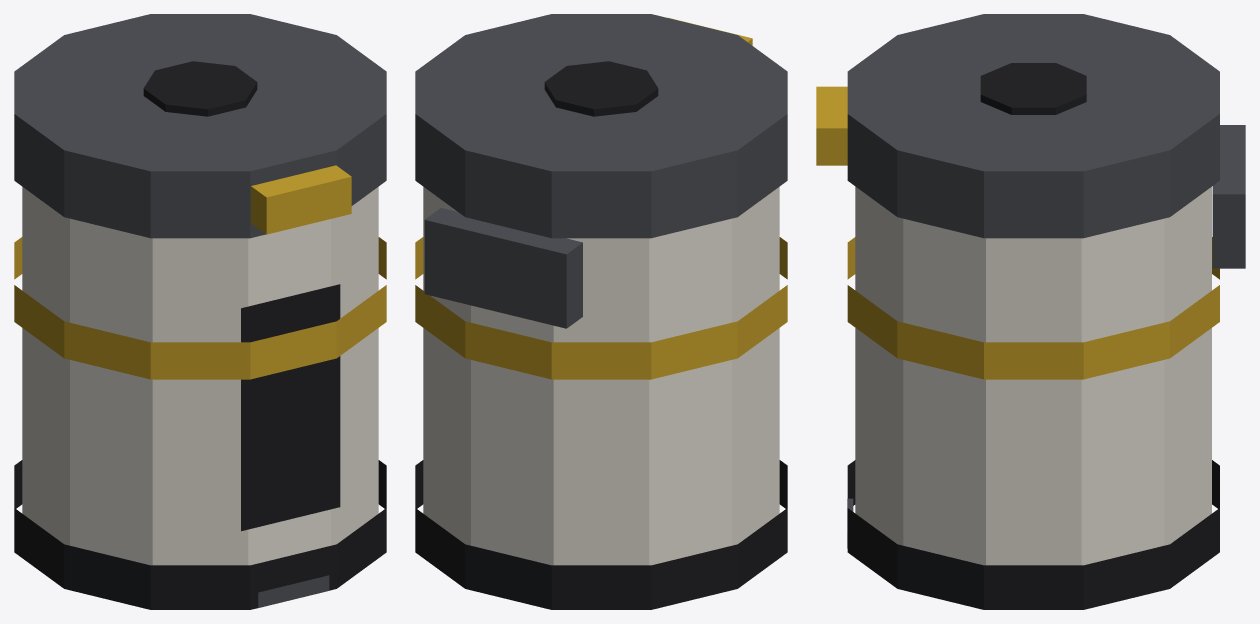
The model's file is sample_container.glb.
3 views of the same model, side by side, from view 1: azimuth 30°, elevation 25°; view 2: azimuth 150°, elevation 25°; view 3: azimuth 270°, elevation 25° (orthographic).
Parts seen in each view (by area): view 1: sample_container, container_lid, container_fill; view 2: sample_container, container_lid; view 3: sample_container, container_lid.
Boxes of the visible parts, x1,y1,x2,y2 form: sample_container: (14,187,386,609); container_lid: (14,14,386,238); container_fill: (258,575,329,607); sample_container: (415,187,787,609); container_lid: (415,14,787,238); sample_container: (847,125,1245,609); container_lid: (816,14,1219,238).
Size of what is drawn, in the model's own units: 0.0908 by 0.12 by 0.1046.
